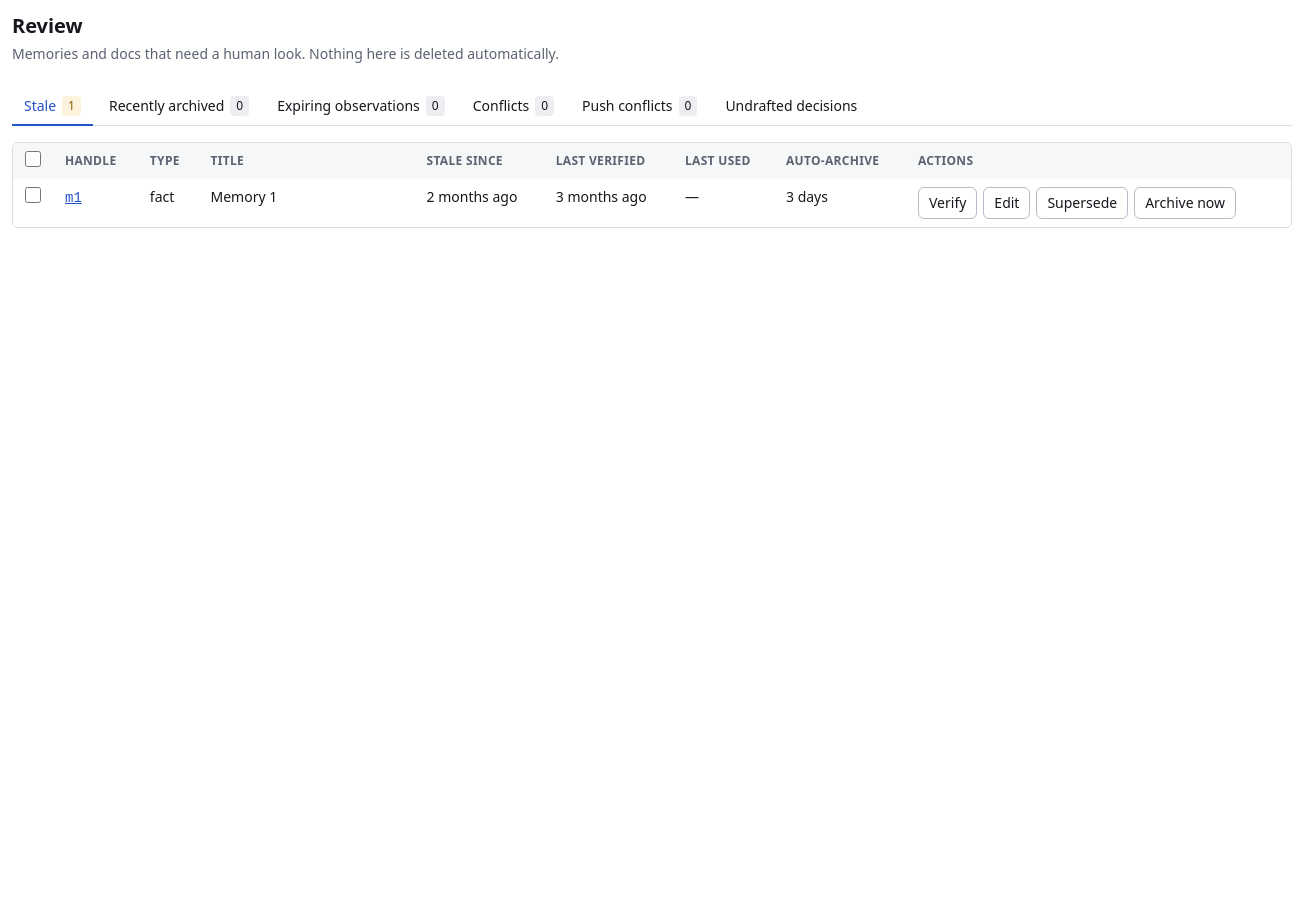
Test: ReviewPage › puts a row back and shows the error when an action fails
Click the button "Verify": coordinates (948, 203) [918, 187, 977, 219]
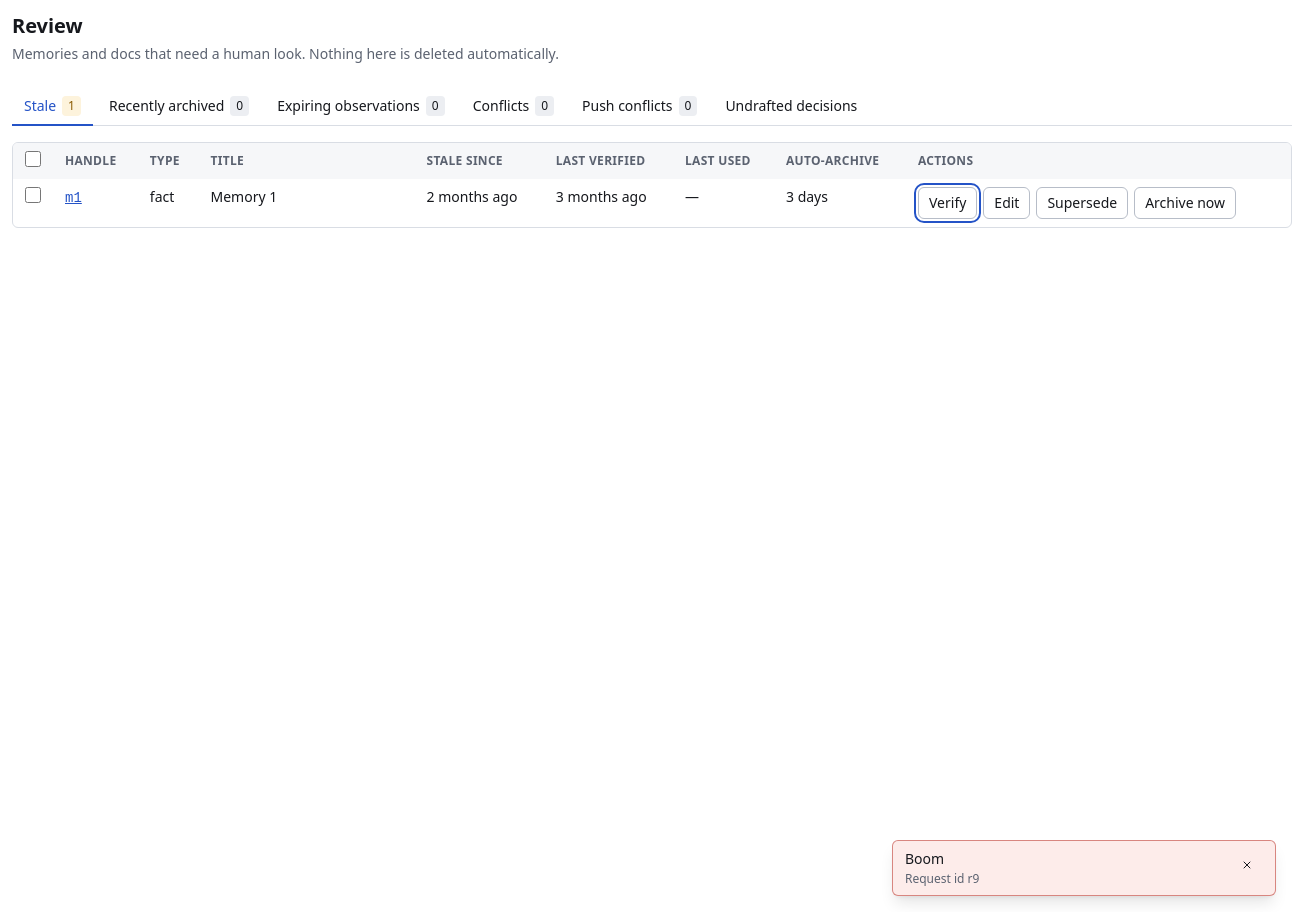
Expected: the link "Memory 1" is shown, [210, 187, 277, 206]
Expected: the text "Boom" is shown, [905, 849, 944, 868]
